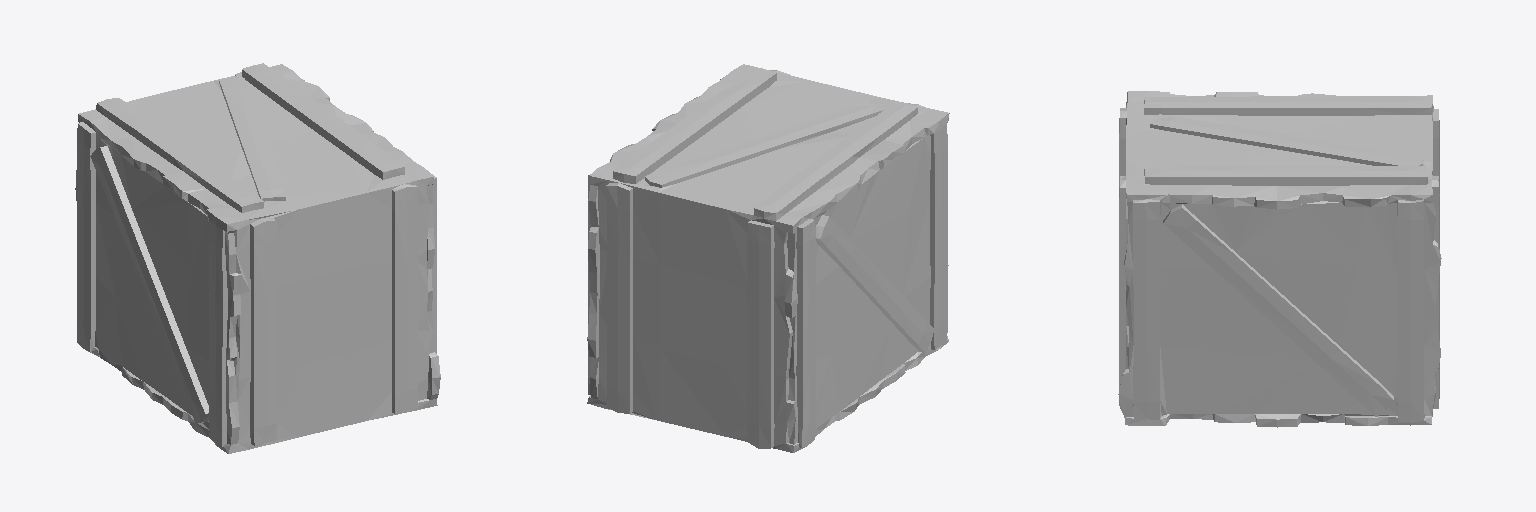
File: small_box.obj
3 views of the same model, side by side, from view 1: azimuth 30°, elevation 25°; view 2: azimuth 150°, elevation 25°; view 3: azimuth 270°, elevation 25° (orthographic).
Visible parts, largest first — view 1: box2_Mesh.004; view 2: box2_Mesh.004; view 3: box2_Mesh.004.
Boxes of the visible parts, x1,y1,x2,y2 form: box2_Mesh.004: [75, 63, 440, 453]; box2_Mesh.004: [587, 64, 949, 452]; box2_Mesh.004: [1118, 91, 1441, 427].
Bounding box in the file's own units: 0.2637 × 0.2757 × 0.3381.